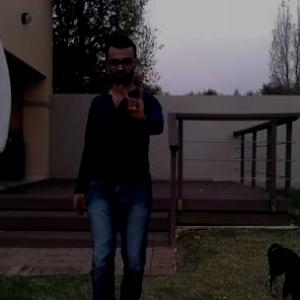takeoff-hand: (119, 71, 157, 126)
